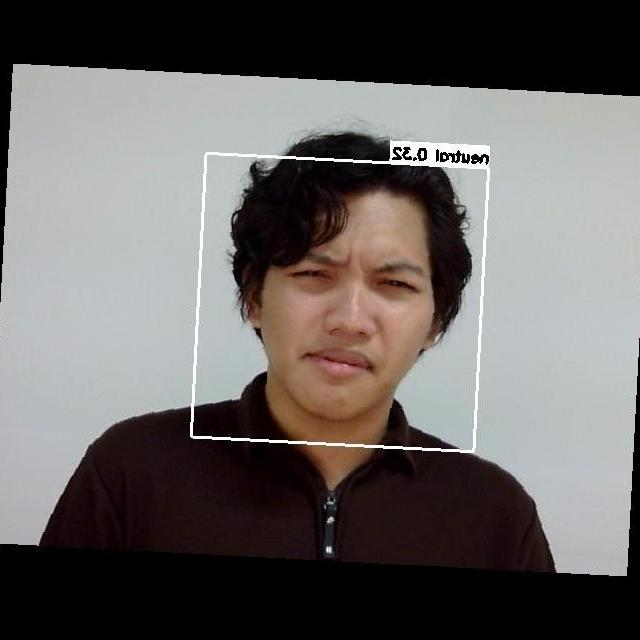Disgust: (268, 221, 435, 402)
